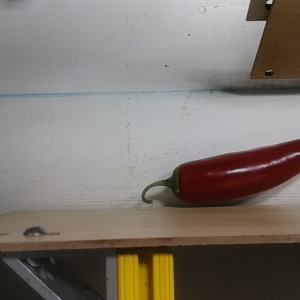Cut Point: (164, 163, 195, 204)
